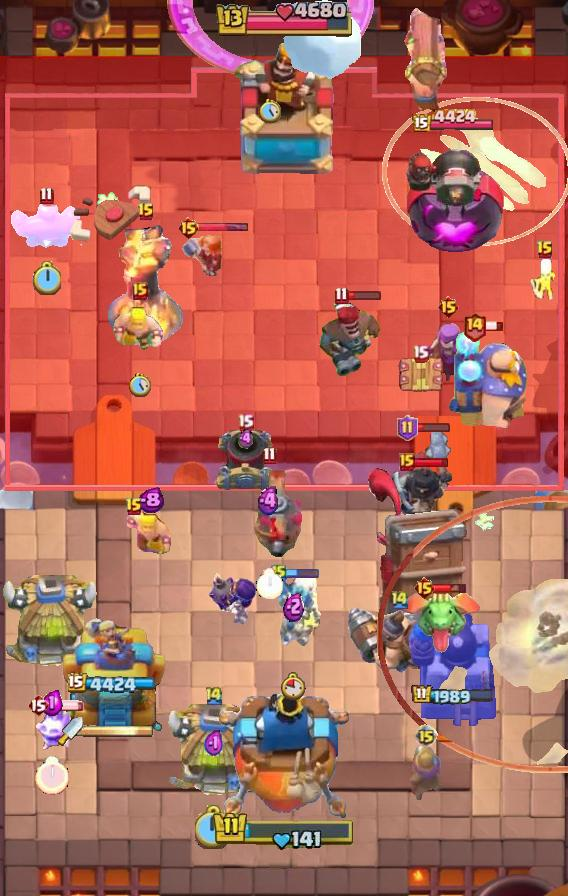archer: (111, 305, 169, 357), (124, 508, 176, 554)
bar: (61, 615, 166, 731)
battle-healer: (401, 0, 449, 114)
bomb-tower: (409, 740, 443, 800)
clock: (212, 810, 356, 852), (213, 2, 355, 40)
dark-prince: (236, 467, 302, 557)
dart-goblin: (368, 467, 468, 629)
electro-dragon: (107, 222, 185, 350)
electro-spirit: (255, 486, 283, 516), (137, 487, 164, 514), (284, 590, 305, 621), (204, 729, 224, 759), (41, 688, 63, 715), (239, 428, 254, 450)
electro-wizard: (399, 591, 483, 653)
elixir: (195, 805, 233, 849), (35, 756, 69, 795), (32, 261, 60, 295), (256, 569, 283, 600), (282, 672, 307, 700), (259, 99, 281, 123), (129, 373, 151, 397)
emote: (197, 222, 249, 233), (47, 699, 85, 711), (413, 456, 450, 468), (284, 568, 320, 580), (432, 582, 467, 594), (346, 290, 382, 301), (415, 423, 451, 434), (484, 320, 504, 332)
goblin-ball: (206, 572, 258, 628)
goblin-brawler: (395, 352, 445, 398)
heal-spirit: (528, 259, 562, 301)
hog-rider: (180, 233, 224, 283)
ice-wizard: (382, 97, 568, 246)
inferno-dragon: (389, 424, 455, 530)
king-tower: (219, 692, 349, 826), (228, 41, 340, 181)
king-tower-bar: (83, 724, 153, 738)
knight-evolution: (166, 0, 374, 80)
little-prince: (444, 330, 532, 430)
mini-pekka: (262, 569, 324, 651)
mirror: (32, 702, 72, 752)
musketeer: (214, 426, 276, 494)
phoenix-small: (317, 299, 383, 379)
prince: (0, 575, 102, 671), (163, 704, 265, 800)
rascal-girl: (421, 321, 475, 381)
royal-ghost: (376, 495, 568, 772)
selected: (411, 109, 495, 136), (68, 672, 160, 696), (411, 685, 495, 708)
text: (462, 310, 486, 341), (414, 724, 438, 748), (177, 216, 200, 240), (436, 295, 459, 319), (413, 576, 436, 600), (398, 415, 419, 441), (27, 693, 49, 717), (390, 589, 410, 611), (204, 686, 224, 707), (137, 202, 155, 222), (536, 240, 554, 260), (125, 497, 143, 517), (412, 344, 429, 363), (271, 563, 287, 583), (238, 413, 255, 431), (132, 282, 148, 300), (399, 453, 415, 471), (335, 287, 350, 305), (263, 447, 277, 466), (39, 187, 53, 205)
tornado: (10, 201, 82, 251)
tower-bar: (401, 138, 505, 256), (408, 599, 498, 731)
wall-breaker: (281, 0, 363, 80)
wizard: (344, 605, 456, 675)
